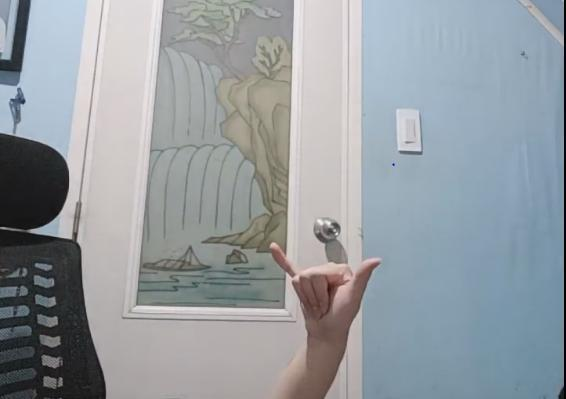y: (269, 239, 382, 325)
